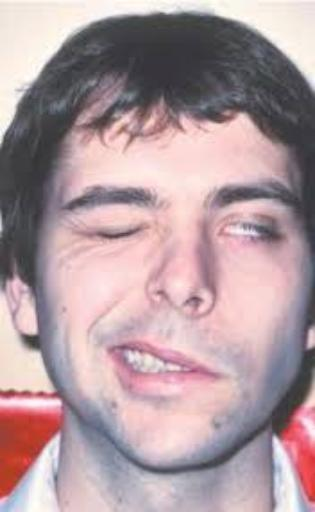left_eye: (216, 217, 283, 251)
left_lip_corner: (210, 363, 233, 388)
right_eye: (86, 216, 151, 242)
right_lip_corner: (102, 340, 127, 364)
